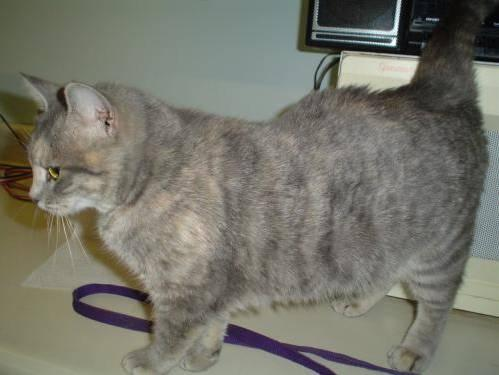cat: (7, 0, 495, 375)
